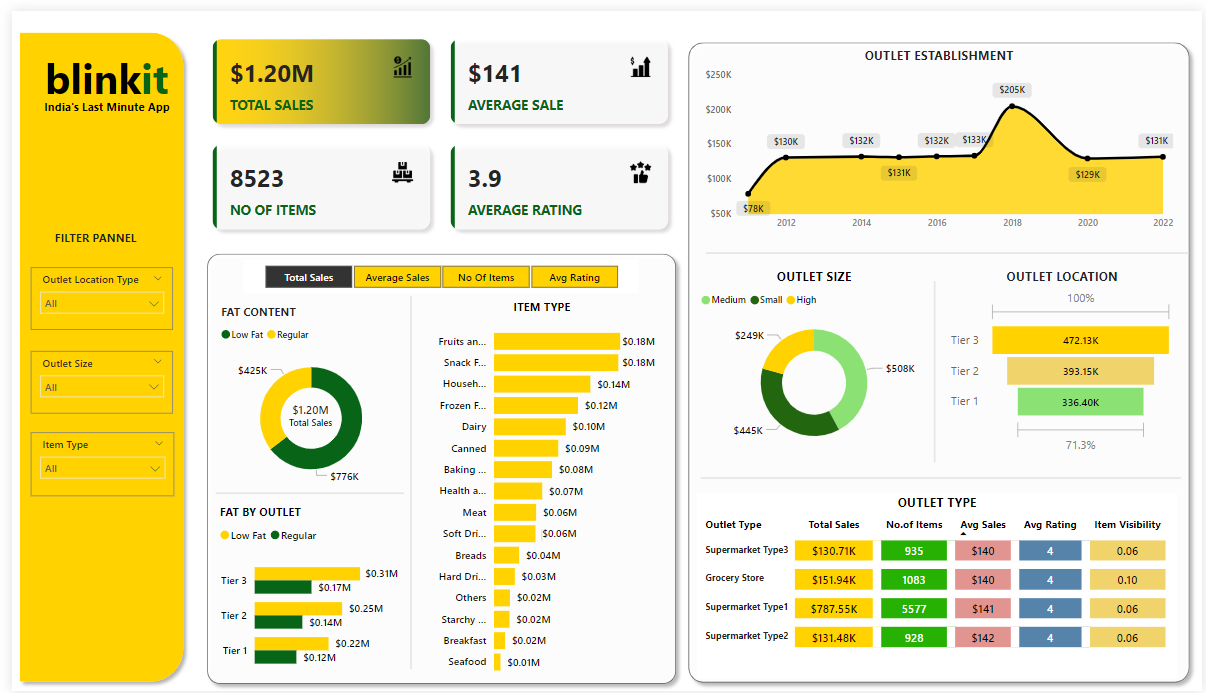

This screenshot's page, from the dashboard's own definition file:
{"tool":"powerbi","page":{"name":"Page 1","canvas":[1400,800],"ordinal":0},"visuals":[{"type":"shape","box":[0,16.7,210.6,781.8],"z":0},{"type":"textbox","box":[22.7,40.9,178.8,78.8],"z":1000},{"type":"textbox","box":[22.2,98.4,179.4,42.9],"z":2000},{"type":"cardVisual","fields":{"Data":["BlinkIT Grocery Data.M_Total_Sales","BlinkIT Grocery Data.M_Average_Sales","BlinkIT Grocery Data.M_No_Of_Items","BlinkIT Grocery Data.M_Average_Rating"]},"box":[219.7,16.7,571.2,259.1],"z":3000},{"type":"shape","box":[221.2,275.8,569.7,524.2],"z":4000},{"type":"donutChart","title":"FAT CONTENT","fields":{"Y":["BlinkIT Grocery Data.Total Sales"],"Category":["BlinkIT Grocery Data.Item Fat Content"]},"box":[240.6,343.8,221.9,225],"z":5000},{"type":"slicer","fields":{"Values":["Metrix.Metrix"]},"box":[272.7,292.4,465.2,39.4],"z":6000},{"type":"cardVisual","fields":{"Data":["BlinkIT Grocery Data.Total Sales"]},"box":[309.5,442.9,85.7,54],"z":7000},{"type":"clusteredBarChart","title":"FAT BY OUTLET","fields":{"Y":["BlinkIT Grocery Data.Total Sales"],"Category":["BlinkIT Grocery Data.Outlet Location Type"],"Series":["BlinkIT Grocery Data.Item Fat Content"]},"box":[239.9,579.1,219.8,211.8],"z":8000},{"type":"shape","box":[239.1,560.9,221.9,14.1],"z":9000},{"type":"shape","box":[547.5,610.9,152.5,12.9],"z":10000},{"type":"shape","box":[462.5,335.9,12.5,439.1],"z":11000},{"type":"barChart","title":"ITEM TYPE","fields":{"Y":["BlinkIT Grocery Data.Total Sales"],"Category":["BlinkIT Grocery Data.Item Type"]},"box":[485.9,337.5,276.6,453.1],"z":12000},{"type":"shape","box":[786.4,27.3,607.6,771.2],"z":13000},{"type":"lineChart","title":"OUTLET ESTABLISHMENT","fields":{"Y":["BlinkIT Grocery Data.Total Sales"],"Category":["BlinkIT Grocery Data.Outlet Establishment Year"]},"box":[810.9,40.6,560.9,225],"z":14000},{"type":"shape","box":[810.6,542.4,565.2,13.6],"z":15000},{"type":"donutChart","title":"OUTLET SIZE","fields":{"Y":["BlinkIT Grocery Data.Total Sales"],"Category":["BlinkIT Grocery Data.Outlet Size"]},"box":[806.1,301.5,275.8,224.2],"z":16000},{"type":"shape","box":[1078.8,318.2,12.1,213.6],"z":17000},{"type":"funnel","title":"OUTLET LOCATION","fields":{"Y":["Sum(BlinkIT Grocery Data.Sales)"],"Category":["BlinkIT Grocery Data.Outlet Location Type"]},"box":[1100,301.5,271.2,224.2],"z":18000},{"type":"shape","box":[816.7,275.8,568.2,16.7],"z":19000},{"type":"pivotTable","title":"OUTLET TYPE","fields":{"Rows":["BlinkIT Grocery Data.Outlet Type"],"Values":["BlinkIT Grocery Data.Total Sales","BlinkIT Grocery Data.No Of Items","BlinkIT Grocery Data.Average Sales","BlinkIT Grocery Data.Avg Rating","Avg(BlinkIT Grocery Data.Item Visibility)"]},"box":[806.1,568.2,565.2,218.2],"z":20000},{"type":"slicer","fields":{"Values":["BlinkIT Grocery Data.Outlet Location Type"]},"box":[22.8,301.6,167.6,73.7],"z":21000},{"type":"slicer","fields":{"Values":["BlinkIT Grocery Data.Outlet Size"]},"box":[22.8,399.5,167.6,73.7],"z":22000},{"type":"slicer","fields":{"Values":["BlinkIT Grocery Data.Item Type"]},"box":[22.8,496,168.9,75.1],"z":22001},{"type":"textbox","box":[22.8,253.4,152.8,30.8],"z":22002}]}

Visuals, with their boxes in screenshot pixels (x1, y1, x2, y2), scaled from the page's 1400x800 canvas onto the 1206x693 screenshot:
shape: pyautogui.locateOnScreen(0, 14, 181, 692)
textbox: pyautogui.locateOnScreen(20, 35, 174, 104)
textbox: pyautogui.locateOnScreen(19, 85, 174, 122)
cardVisual - BlinkIT Grocery Data.M_Total_Sales x BlinkIT Grocery Data.M_Average_Sales: pyautogui.locateOnScreen(189, 14, 681, 239)
shape: pyautogui.locateOnScreen(191, 239, 681, 692)
"FAT CONTENT" donutChart: pyautogui.locateOnScreen(207, 298, 398, 493)
slicer - Metrix.Metrix: pyautogui.locateOnScreen(235, 253, 636, 287)
cardVisual - BlinkIT Grocery Data.Total Sales: pyautogui.locateOnScreen(267, 384, 340, 430)
"FAT BY OUTLET" clusteredBarChart: pyautogui.locateOnScreen(207, 502, 396, 685)
shape: pyautogui.locateOnScreen(206, 486, 397, 498)
shape: pyautogui.locateOnScreen(472, 529, 603, 540)
shape: pyautogui.locateOnScreen(398, 291, 409, 671)
"ITEM TYPE" barChart: pyautogui.locateOnScreen(419, 292, 657, 685)
shape: pyautogui.locateOnScreen(677, 24, 1201, 692)
"OUTLET ESTABLISHMENT" lineChart: pyautogui.locateOnScreen(699, 35, 1182, 230)
shape: pyautogui.locateOnScreen(698, 470, 1185, 482)
"OUTLET SIZE" donutChart: pyautogui.locateOnScreen(694, 261, 932, 455)
shape: pyautogui.locateOnScreen(929, 276, 940, 461)
"OUTLET LOCATION" funnel: pyautogui.locateOnScreen(948, 261, 1181, 455)
shape: pyautogui.locateOnScreen(704, 239, 1193, 253)
"OUTLET TYPE" pivotTable: pyautogui.locateOnScreen(694, 492, 1181, 681)
slicer - BlinkIT Grocery Data.Outlet Location Type: pyautogui.locateOnScreen(20, 261, 164, 325)
slicer - BlinkIT Grocery Data.Outlet Size: pyautogui.locateOnScreen(20, 346, 164, 410)
slicer - BlinkIT Grocery Data.Item Type: pyautogui.locateOnScreen(20, 430, 165, 495)
textbox: pyautogui.locateOnScreen(20, 220, 151, 246)
